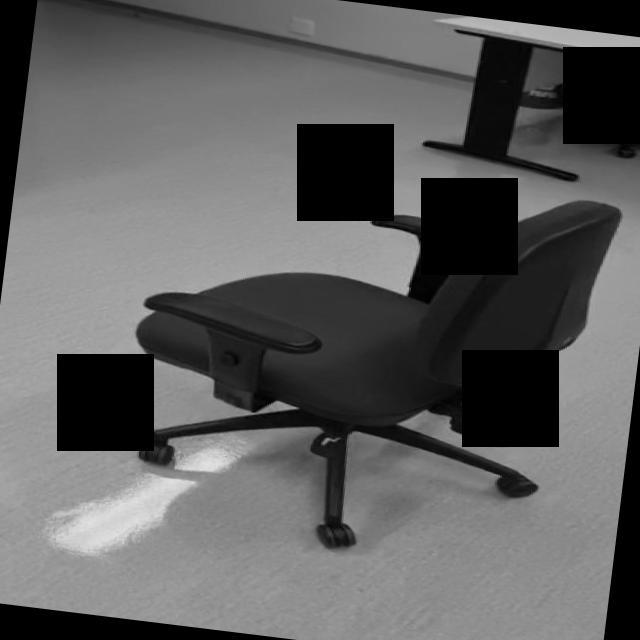chair: (113, 148, 622, 578)
